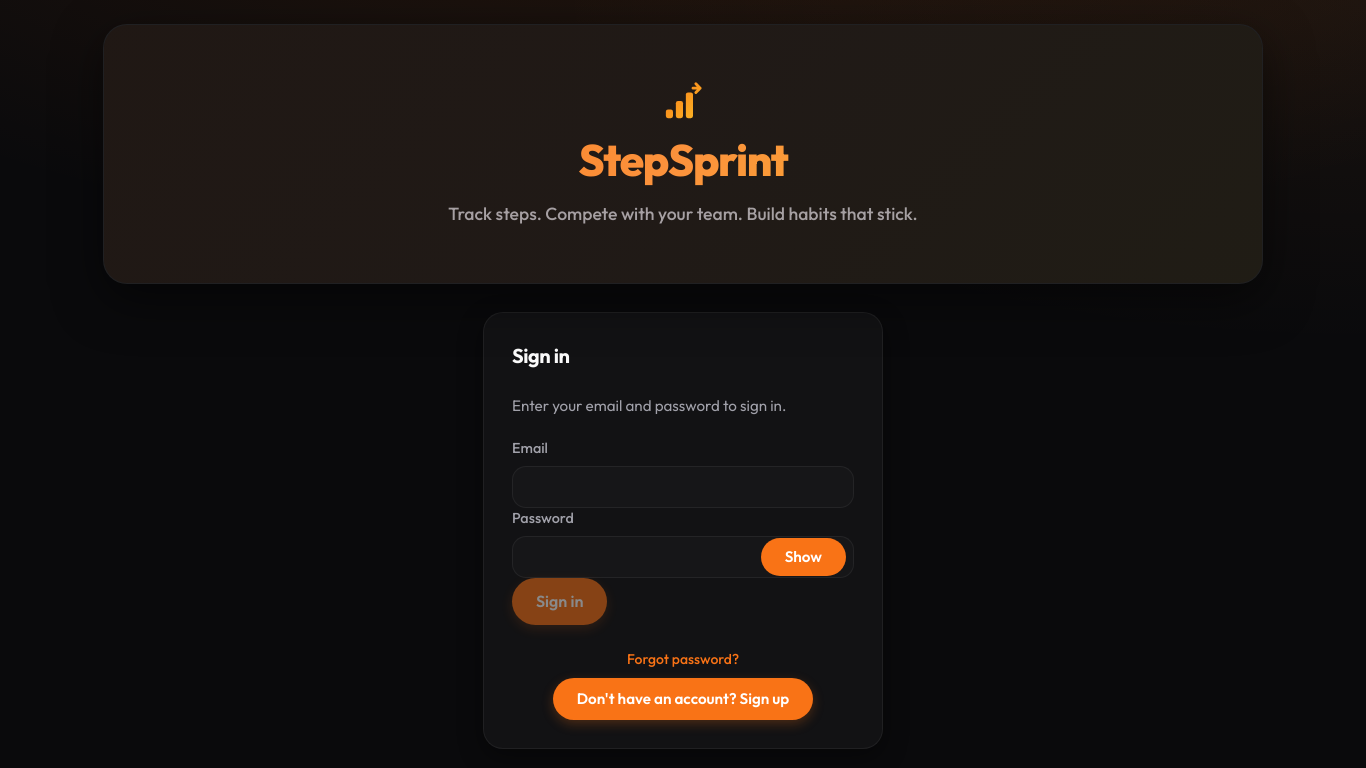
Test: Login (i18n) › switches to registration mode with translated title
Click the button "Don't have an account? Sign up" at (683, 699), box left=553, top=678, right=813, bottom=720
(page scrolled)
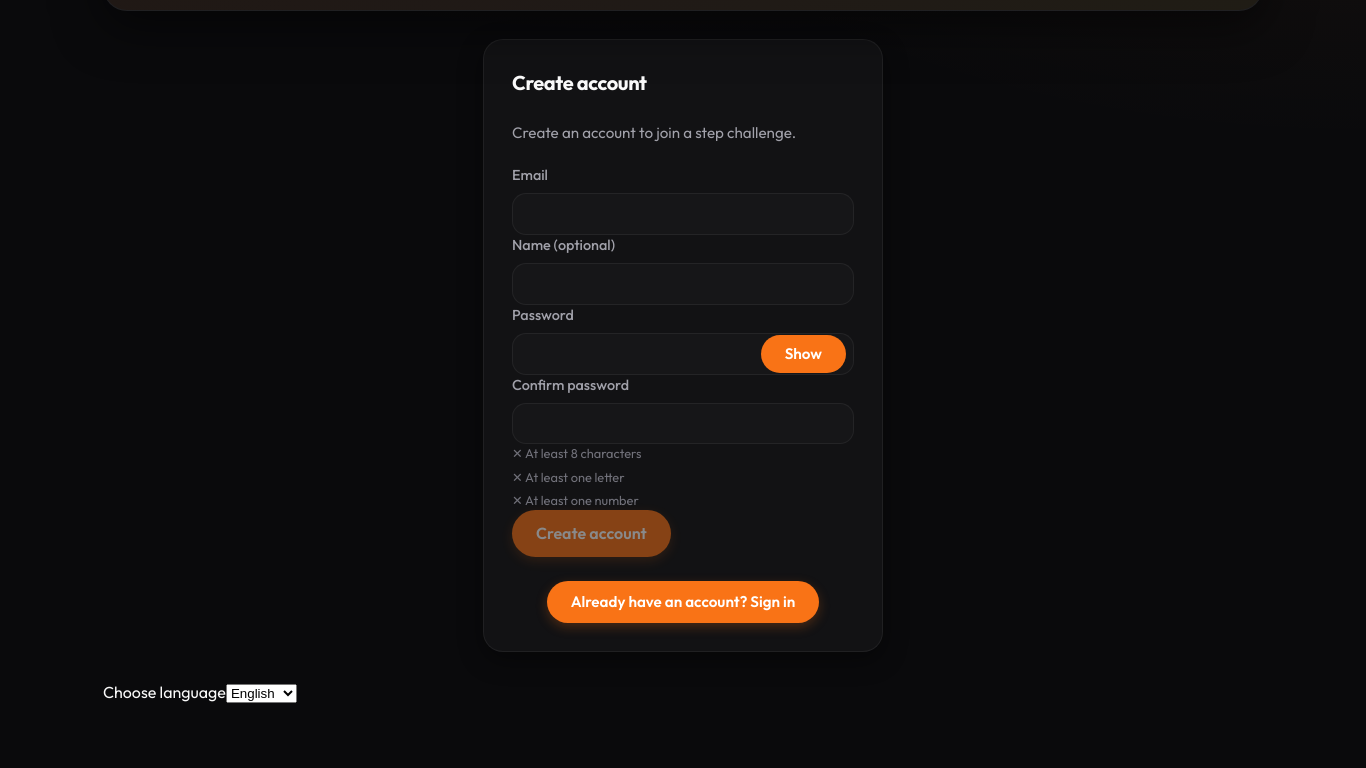
Result: the heading "Create account" is shown at left=512, top=70, right=647, bottom=95
Result: the button "Create account" is shown at left=512, top=510, right=671, bottom=557
